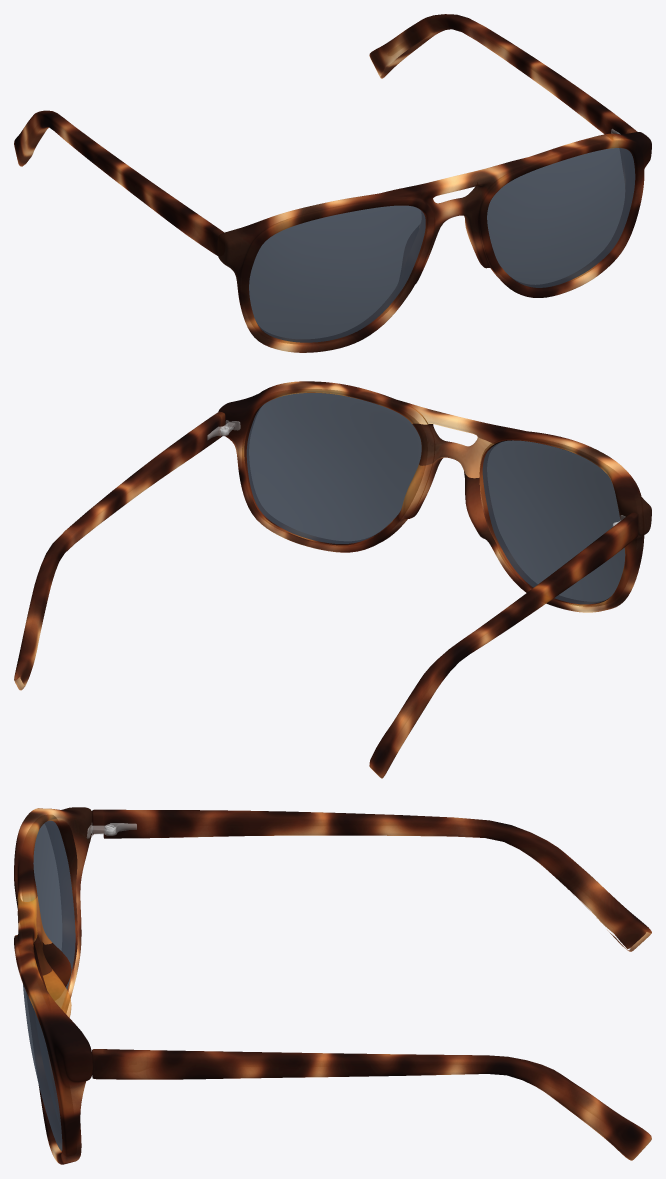
The model's file is hatcher-sun-sbf-oak-barrel_wide.glb.
3 views of the same model, one above another, from view 1: azimuth 30°, elevation 25°; view 2: azimuth 150°, elevation 25°; view 3: azimuth 270°, elevation 25° (orthographic). The views are drawn at different scales.
Visible parts, largest first — view 1: lenses, face_front, left_temple, right_temple; view 2: lenses, face_front, right_temple, left_temple; view 3: left_temple, right_temple, face_front, lenses.
Part boxes in pixels (box(x1,y1,x2,y2)): lenses: box(249, 140, 635, 343); face_front: box(217, 132, 651, 352); left_temple: box(369, 14, 637, 138); right_temple: box(14, 110, 223, 255); lenses: box(242, 389, 625, 606); face_front: box(218, 381, 651, 612); right_temple: box(369, 512, 638, 778); left_temple: box(14, 411, 225, 690); left_temple: box(92, 1049, 651, 1160); right_temple: box(92, 809, 651, 951); face_front: box(14, 807, 92, 1164); lenses: box(22, 815, 75, 1151).
Bounding box in the file's own units: 0.143 × 0.0496 × 0.1557.
3 materials, 1 textured.
